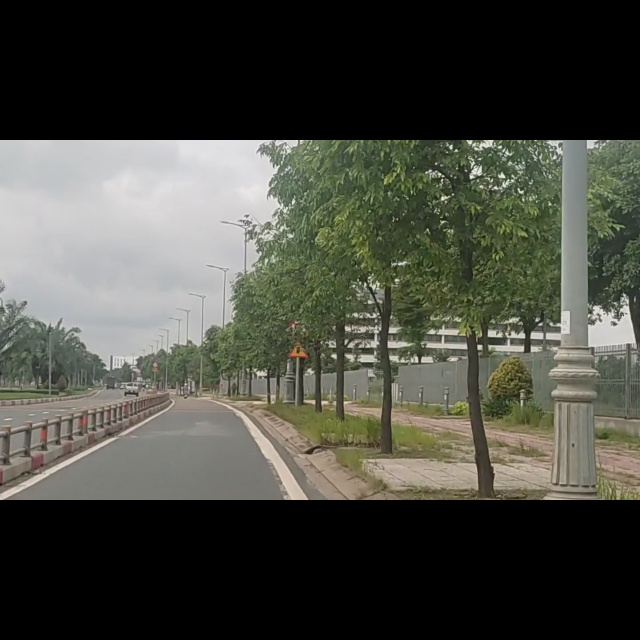bien_nguy_hiem: (287, 357, 307, 390)
